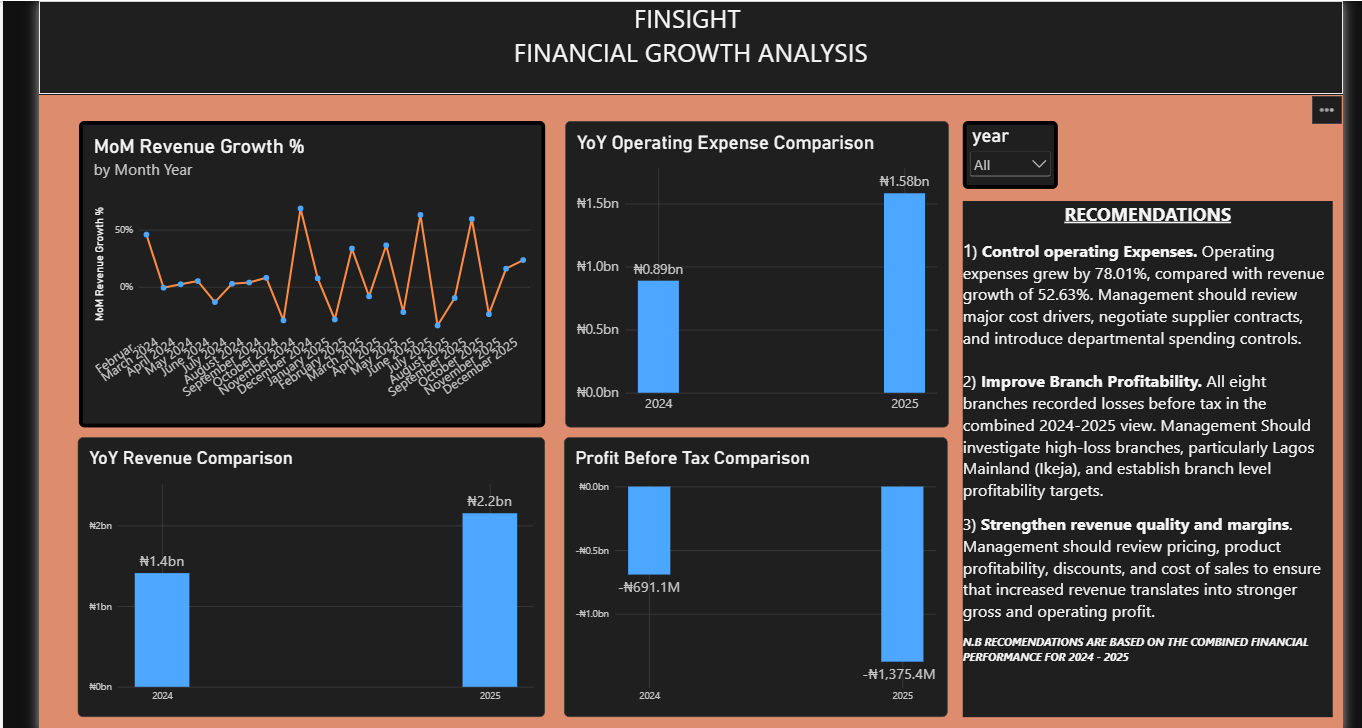

This screenshot's page, from the dashboard's own definition file:
{"tool":"powerbi","page":{"name":"Growth Analysis","canvas":[1920,1080],"ordinal":3},"visuals":[{"type":"lineChart","fields":{"Category":["Date.Month Year"],"Y":["Date.MoM Revenue Growth %"]},"box":[58.9,176.7,686.5,450.9],"z":0},{"type":"slicer","fields":{"Values":["Date.year"]},"box":[1360.1,176.7,140,100],"z":1},{"type":"clusteredColumnChart","title":"YoY Revenue Comparison","fields":{"Category":["Date.year"],"Y":["FactFinancialTransactions.Revenue"]},"box":[57.1,642.3,688.3,412.3],"z":2},{"type":"clusteredColumnChart","title":"YoY Operating Expense Comparison","fields":{"Category":["Date.year"],"Y":["FactFinancialTransactions.operating Expense display"]},"box":[774.9,176.7,565,450.9],"z":3},{"type":"clusteredColumnChart","title":"Profit Before Tax Comparison","fields":{"Category":["Date.year"],"Y":["FactFinancialTransactions.Profit Before Tax"]},"box":[773,642.3,565,412.3],"z":4},{"type":"textbox","box":[0,0,1919.6,138],"z":5},{"type":"textbox","box":[1360.1,294.5,544.8,760.1],"z":6}]}

Visuals, with their boxes in screenshot pixels (x1, y1, x2, y2):
lineChart - Date.Month Year x Date.MoM Revenue Growth %: [69, 118, 541, 428]
slicer - Date.year: [965, 118, 1061, 187]
"YoY Revenue Comparison" clusteredColumnChart: [68, 439, 541, 722]
"YoY Operating Expense Comparison" clusteredColumnChart: [562, 118, 951, 428]
"Profit Before Tax Comparison" clusteredColumnChart: [560, 439, 949, 722]
textbox: [28, 0, 1350, 91]
textbox: [965, 199, 1340, 722]
